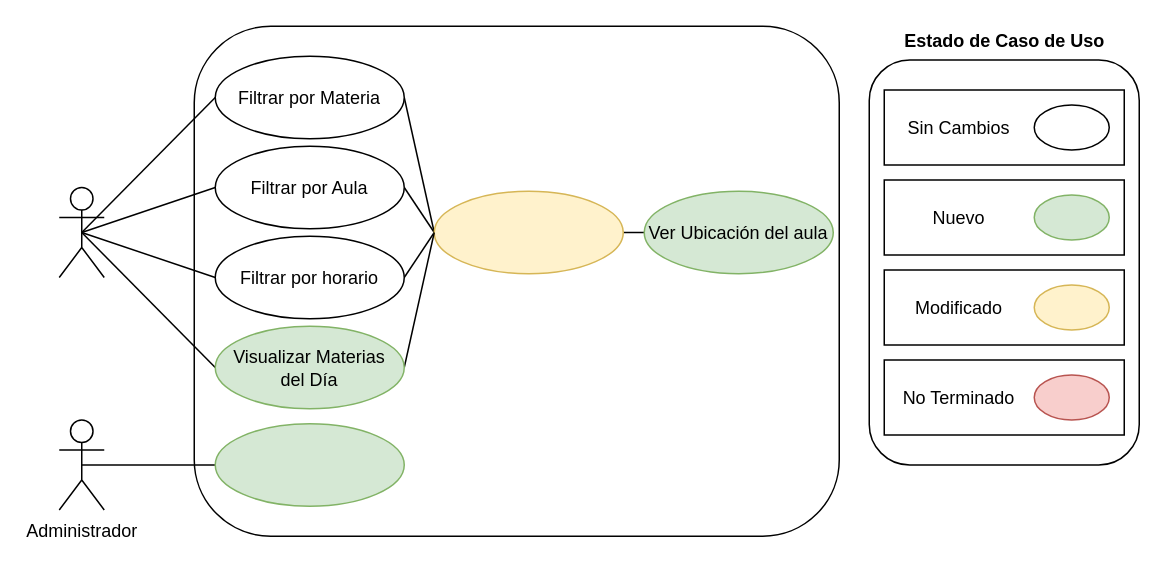
This 1166x567 diagram has some shape labels left out. Here are the shapes that lost their labels. From the top down, the centre of each, then its label:
(x=81, y=232): Estudiante
(x=528, y=232): Visualizacion de las Materias
(x=309, y=464): Login
